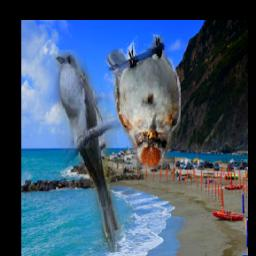Cuckoo: (54, 51, 121, 253)
Sparrow: (105, 32, 182, 169)
